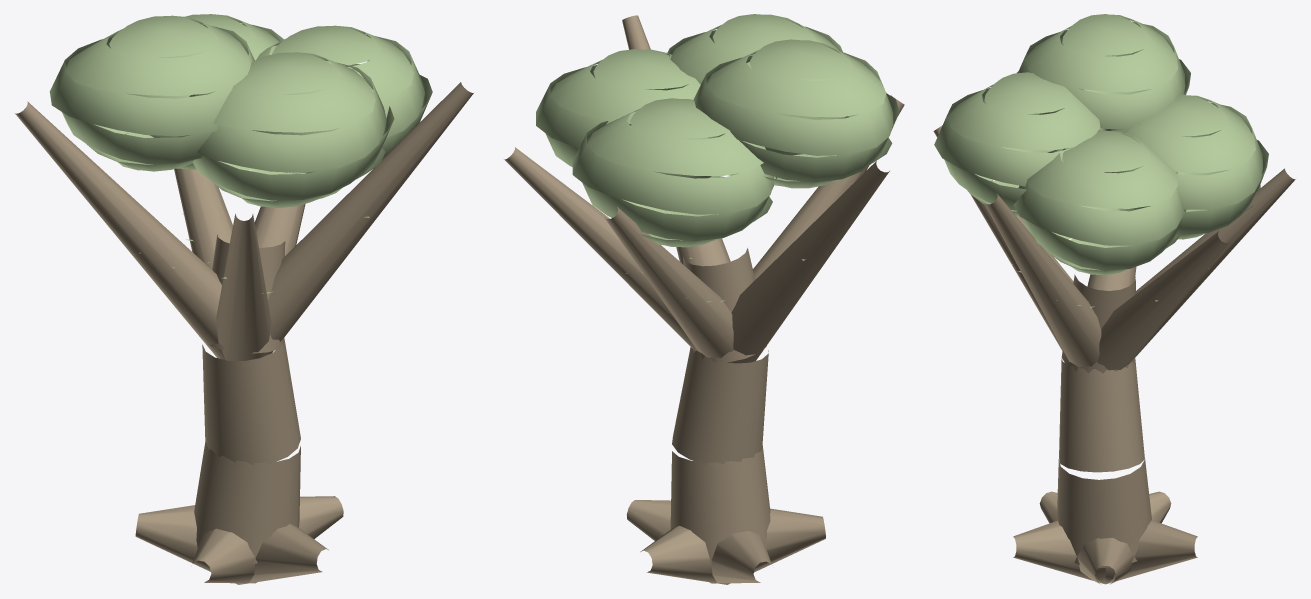
File: olea-europaea-light.glb
3 renders of one model, left to right at view 1: azimuth 30°, elevation 25°; view 2: azimuth 150°, elevation 25°; view 3: azimuth 270°, elevation 25°, orthographic. The views are drawn at different scales.
Parts seen in each view (by area): view 1: olea-europaea; view 2: olea-europaea; view 3: olea-europaea.
Part boxes in pixels (x1,y1,x2,y2): olea-europaea: [15, 14, 473, 584]; olea-europaea: [504, 14, 904, 584]; olea-europaea: [933, 14, 1295, 584].
Bounding box in the file's own units: 2.27 × 3.21 × 2.05.
